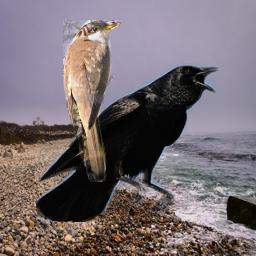Crow: (36, 63, 219, 222)
Cuckoo: (63, 20, 121, 182)
